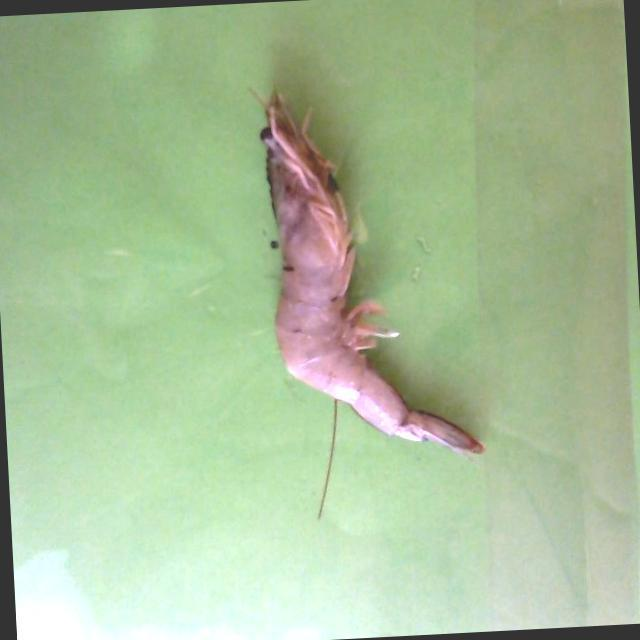shrimp: (260, 94, 482, 455)
